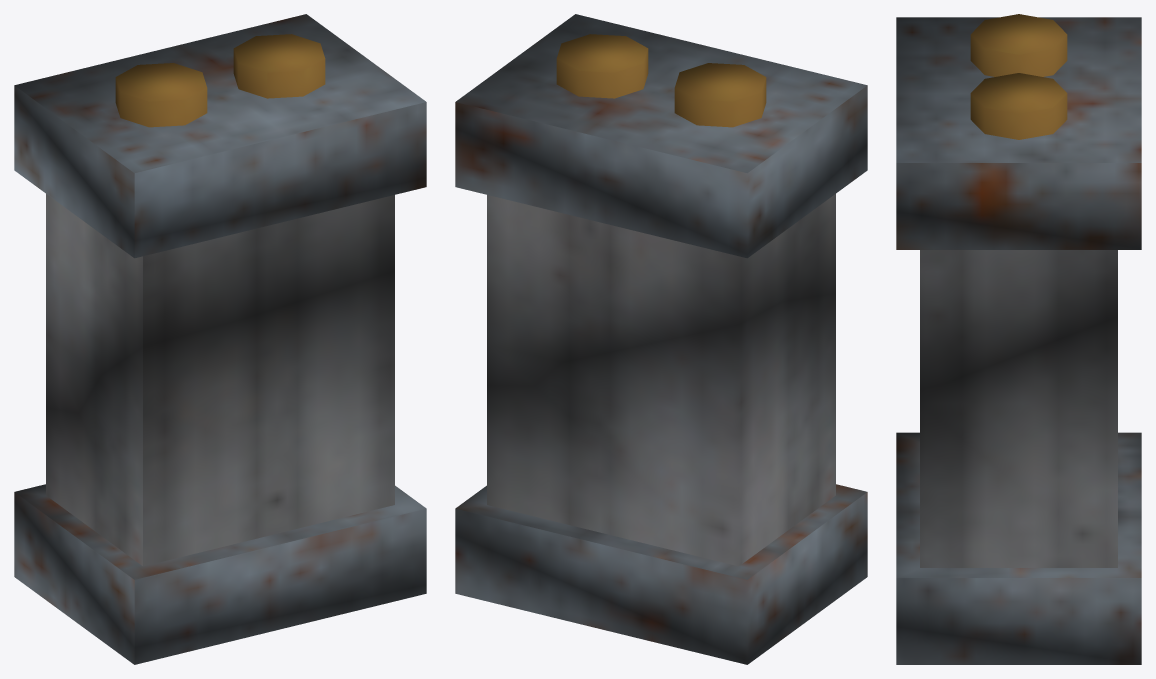
File: grave_power_brick.glb
3 renders of one model, left to right at view 1: azimuth 30°, elevation 25°; view 2: azimuth 150°, elevation 25°; view 3: azimuth 270°, elevation 25°, orthographic. The views are drawn at different scales.
Parts seen in each view (by area): view 1: power_brick; view 2: power_brick; view 3: power_brick.
Part boxes in pixels (left/top/right/bottom): power_brick: left=14, top=14, right=426, bottom=664; power_brick: left=455, top=14, right=867, bottom=664; power_brick: left=896, top=14, right=1141, bottom=664.
Size of the model in its own units: 0.8933 by 1.51 by 0.6367.
2 materials, 2 textured.
